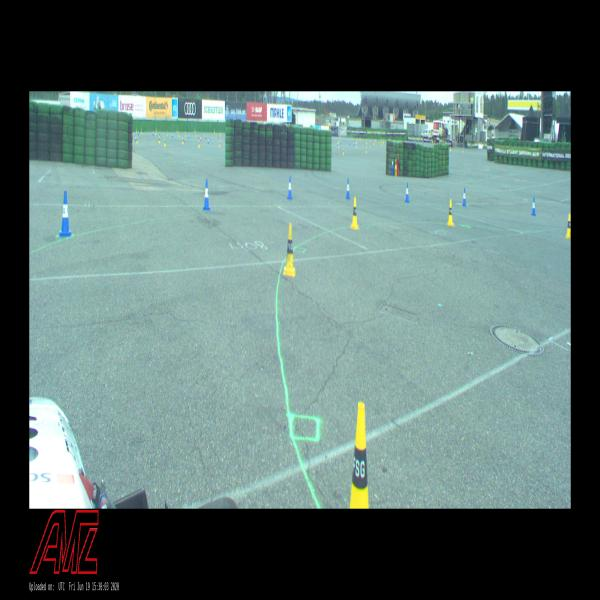blue_cone: (60, 191, 71, 236), (202, 179, 210, 210), (531, 197, 536, 216), (288, 176, 292, 198), (462, 188, 467, 205), (346, 178, 350, 199), (405, 183, 409, 202)
yellow_cone: (349, 403, 370, 509), (284, 224, 296, 275), (351, 197, 358, 229), (447, 200, 454, 226), (566, 213, 570, 239)
